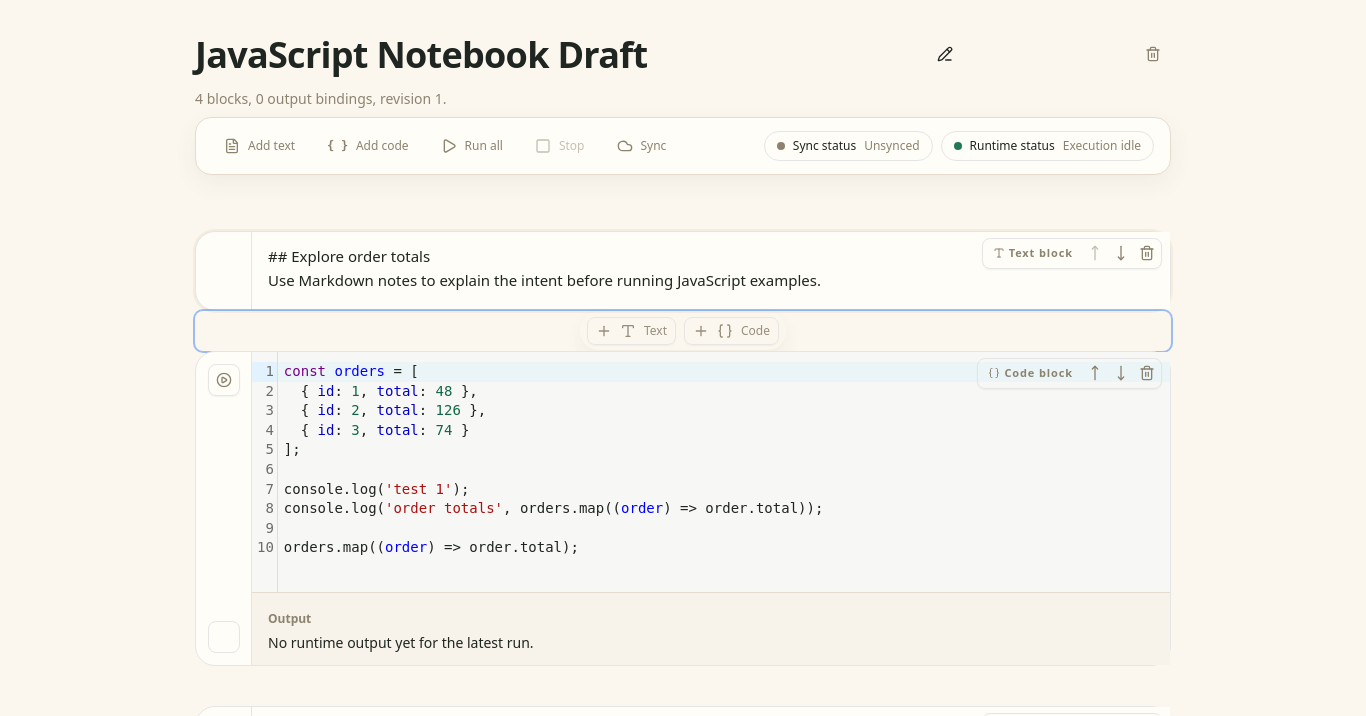
Test case: NotebookEditorView › adds text and code blocks from the selected divider
The width and height of the screenshot is (1366, 716).
Step 1. Click the button with aria-label "Insert block between blk_intro and blk_prepare_data as text" → (632, 331), box [587, 317, 676, 345]
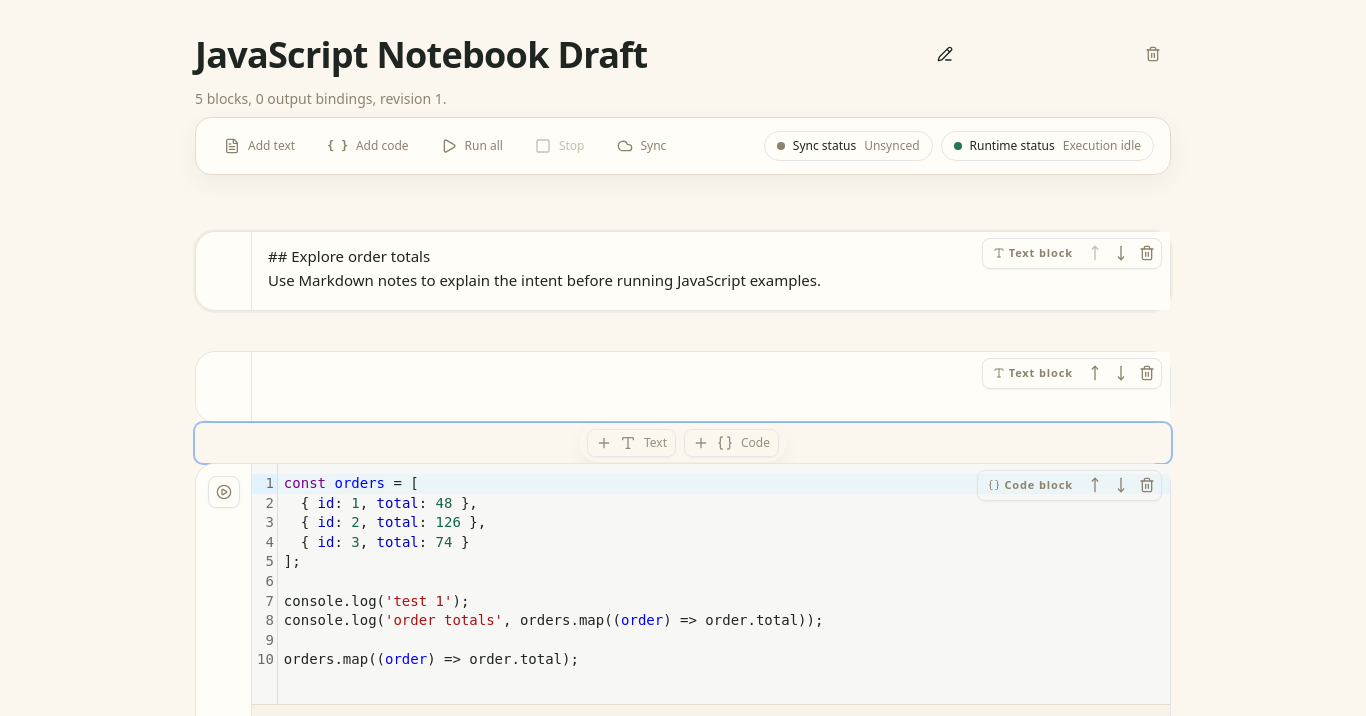
Step 2. Click the button named "Insert block between blk_new_text_1 and blk_prepare_data as code" → (732, 443), box [684, 429, 779, 457]
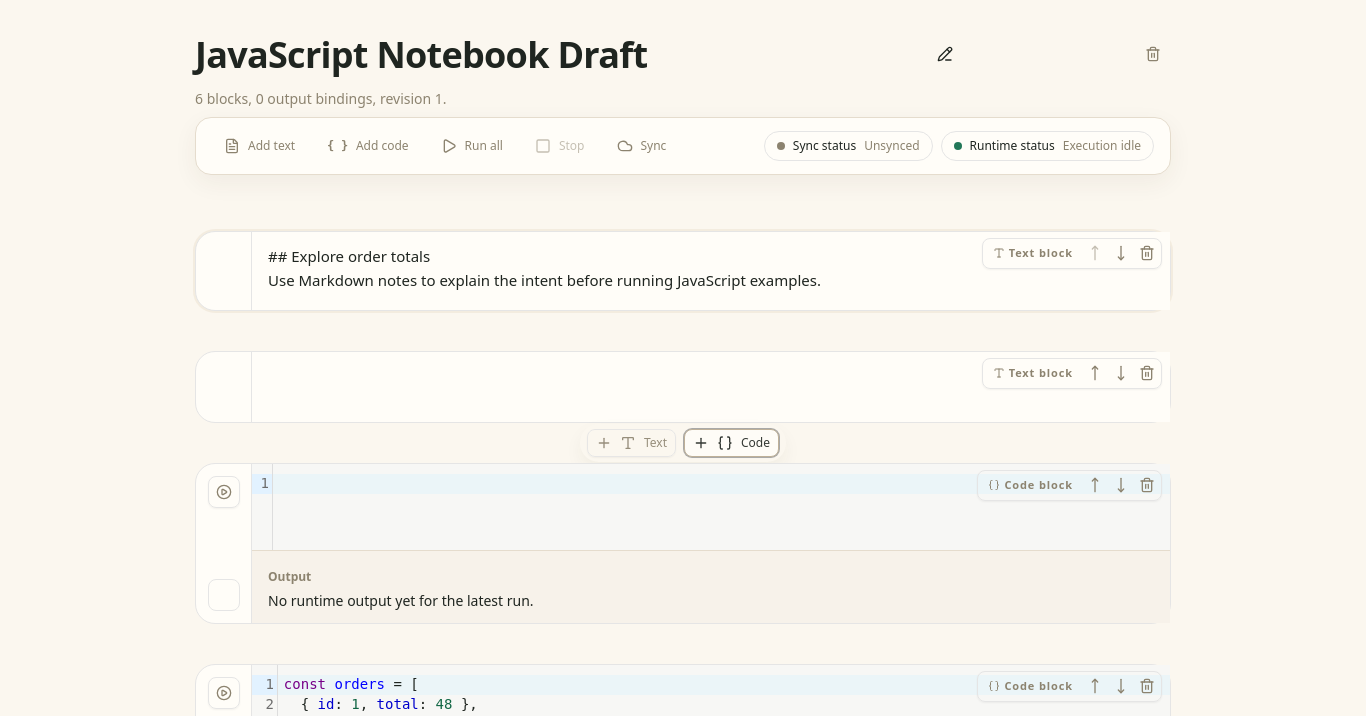
Expected: the number of elements named "Markdown text block" is 3
Expected: the text box named "Markdown source for blk_new_text_1" is empty, [268, 364, 1154, 404]
Expected: the number of elements named "JavaScript code block" is 3
